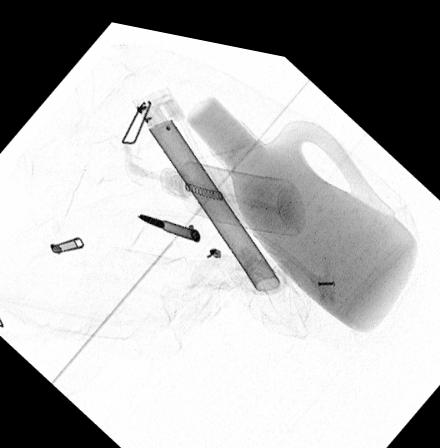Bullet: (135, 206, 201, 234)
